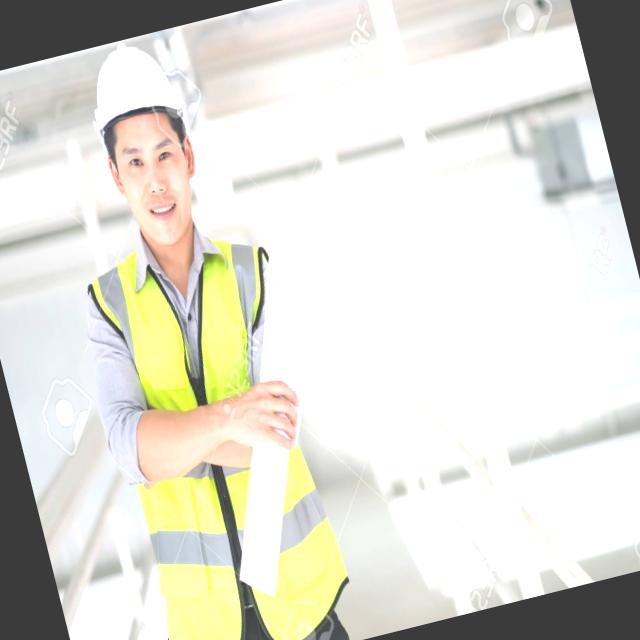helmet: (72, 28, 196, 153)
no-goggles: (113, 124, 187, 184)
vest: (70, 215, 367, 640)
